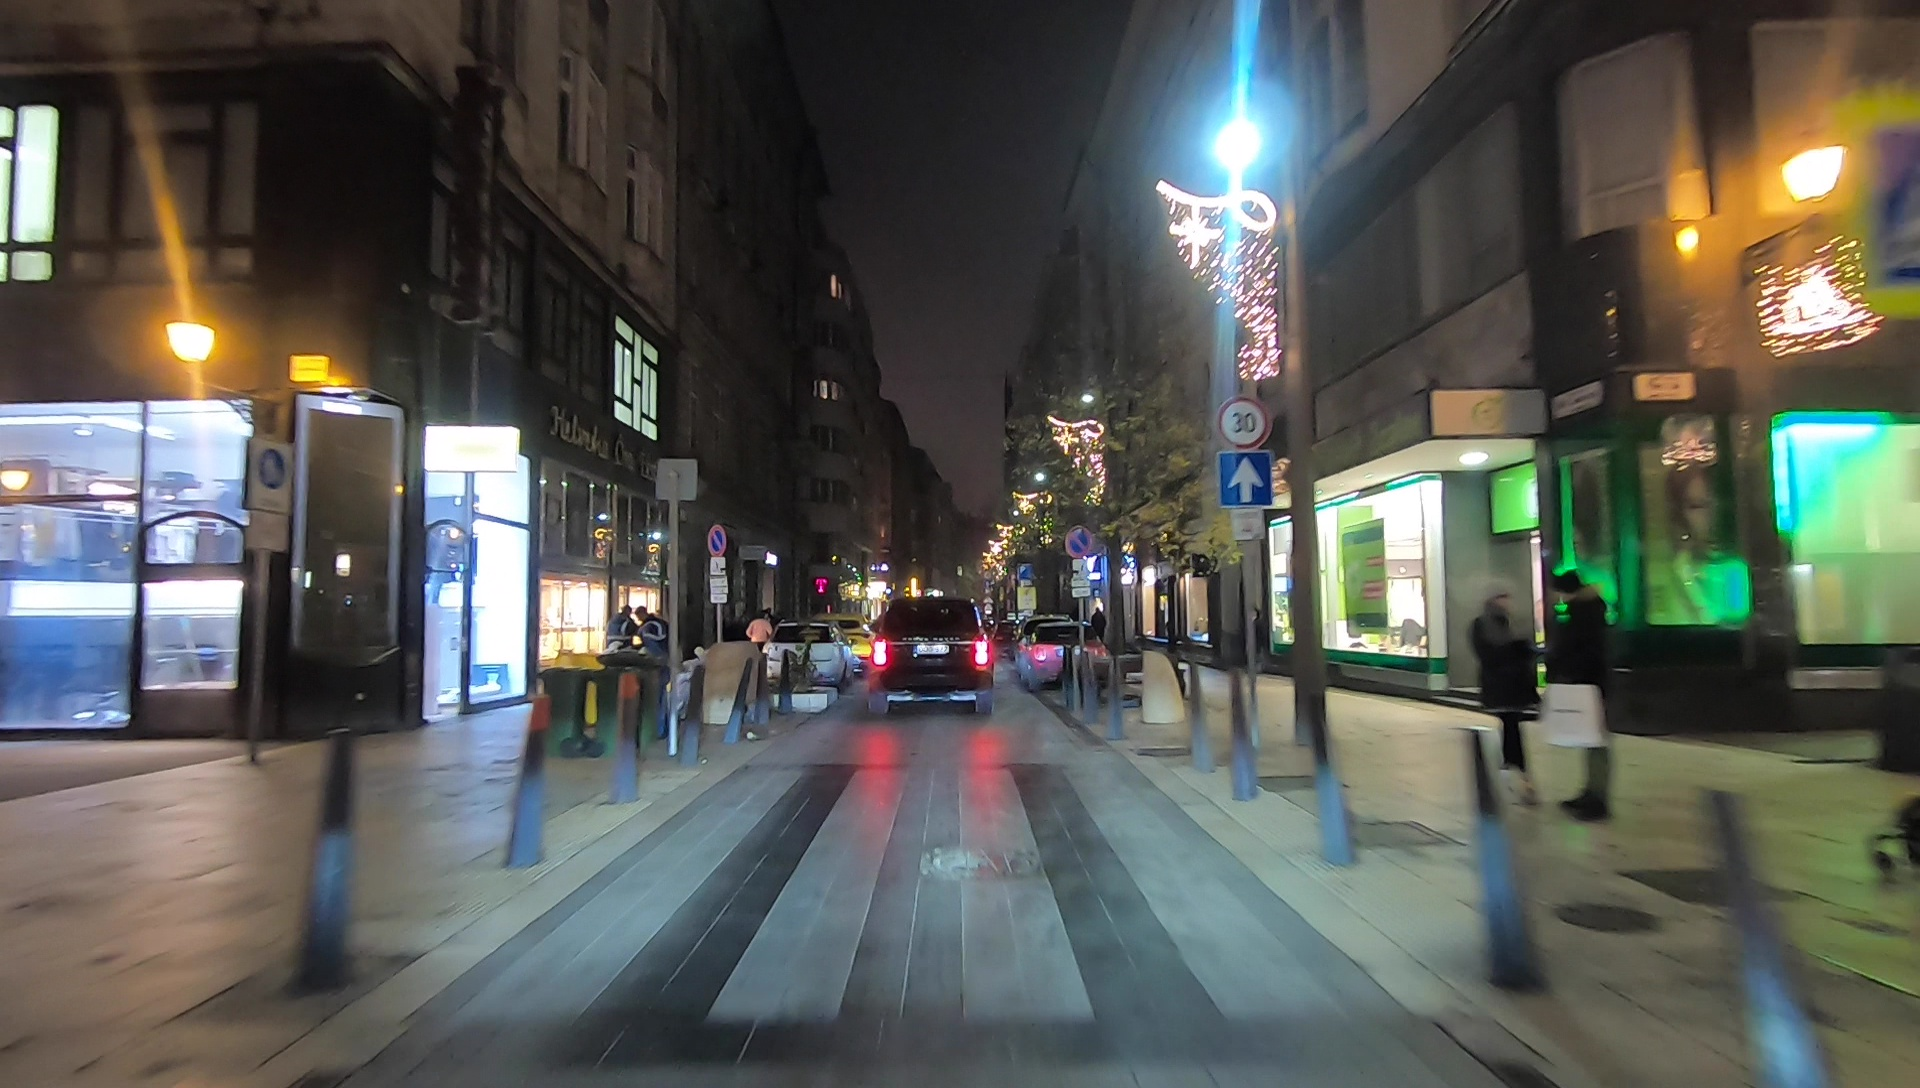person: (1541, 576, 1617, 830), (1471, 587, 1549, 806), (637, 607, 668, 703), (610, 604, 635, 687), (749, 613, 770, 673)
